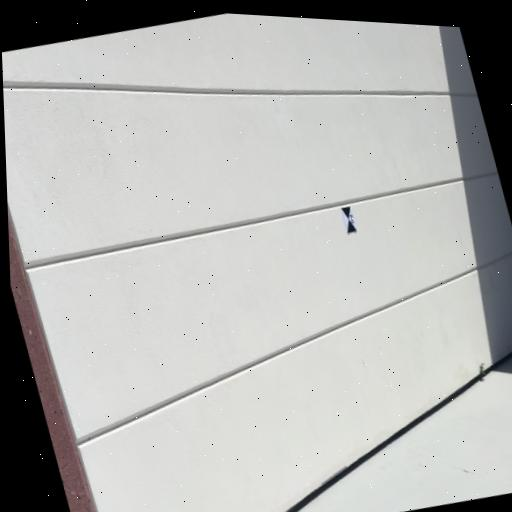target7: (341, 207, 358, 233)
